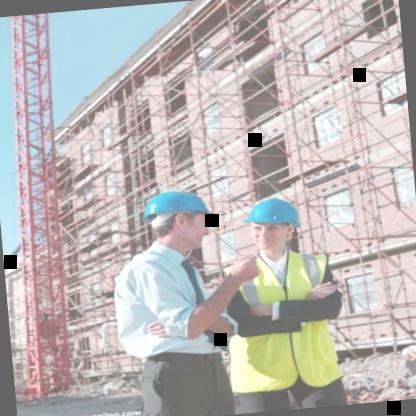helmet: (136, 179, 222, 256), (238, 188, 304, 260)
